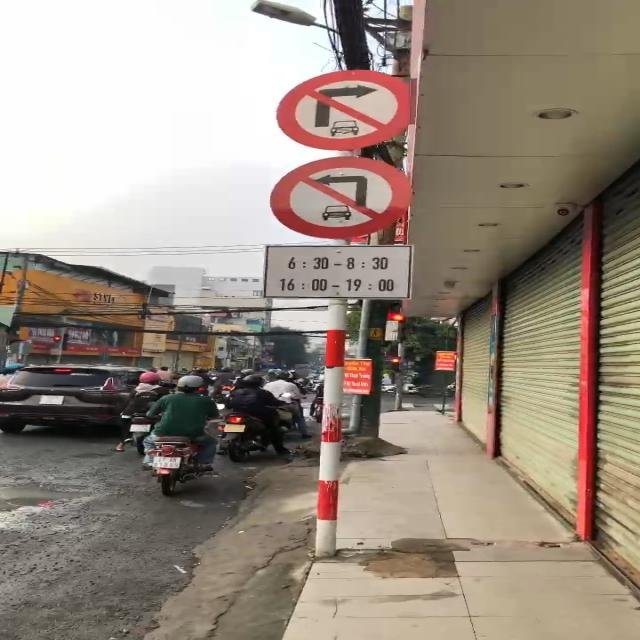Bien bao cam xe o to re phai: (275, 59, 422, 150)
Bien bao cam xe o to re trai: (263, 152, 427, 246)
